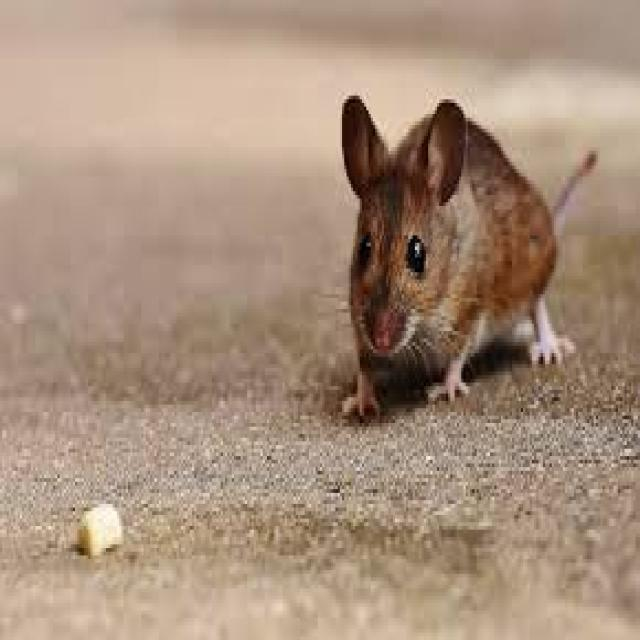Rat: (311, 28, 595, 463)
